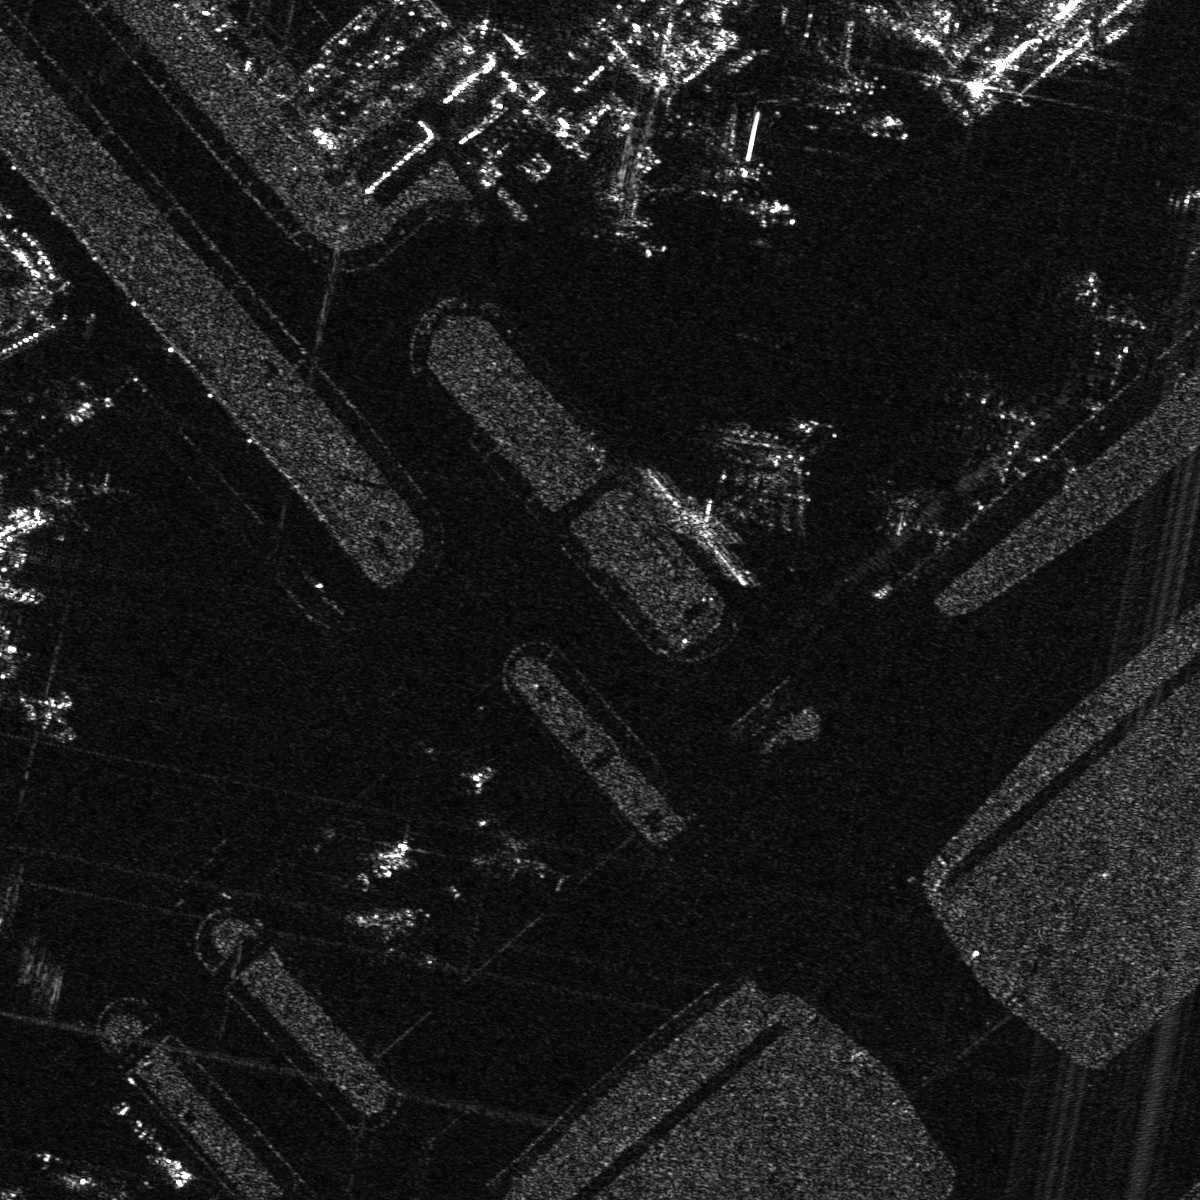Boeing737: (574, 138, 684, 252), (468, 813, 554, 884), (21, 685, 87, 746)
Boeing787: (773, 12, 871, 97), (675, 109, 766, 192), (1064, 266, 1145, 349)
other: (705, 416, 845, 530), (1169, 180, 1199, 269)
